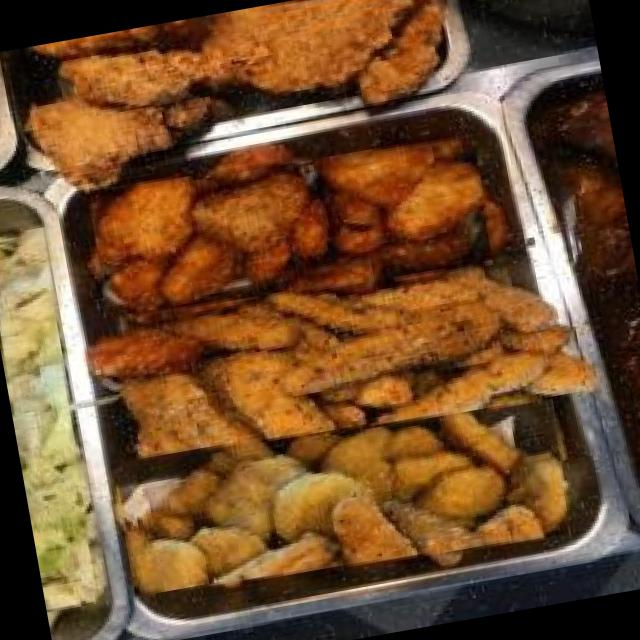chicken_nuggets: (108, 384, 576, 612)
chinese_cabbage: (0, 222, 108, 614)
triangle_hash_brown: (84, 120, 498, 329)
